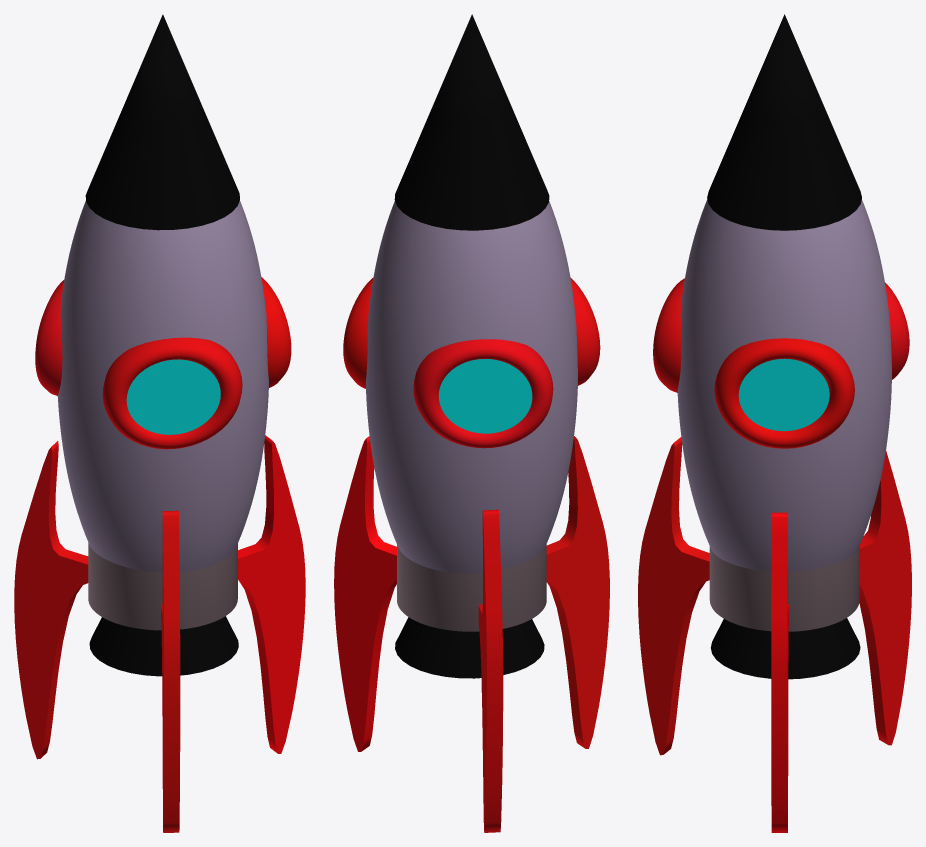
Rendered from rocket.glb.
3 views of the same model, side by side, from view 1: azimuth 30°, elevation 25°; view 2: azimuth 150°, elevation 25°; view 3: azimuth 270°, elevation 25° (orthographic).
Parts seen in each view (by area): view 1: Sphere, Cone, BezierCircle, BezierCircle.002, Cylinder, Torus.003, BezierCircle.001, Cone.001, BezierCircle.003, Torus.001, Torus.002; view 2: Sphere, Cone, BezierCircle.002, BezierCircle.001, Cylinder, Torus.001, BezierCircle, Cone.001, BezierCircle.005, Torus.002, Torus.003; view 3: Sphere, Cone, BezierCircle.001, BezierCircle, Cylinder, Torus.002, Cone.001, BezierCircle.002, BezierCircle.004, Torus.003, Torus.001.
Boxes of the visible parts, bbox=[...] form: Sphere: bbox=[57, 200, 268, 572]; Cone: bbox=[85, 14, 239, 230]; BezierCircle: bbox=[14, 441, 88, 759]; BezierCircle.002: bbox=[238, 435, 305, 753]; Cylinder: bbox=[88, 543, 237, 630]; Torus.003: bbox=[102, 337, 242, 449]; BezierCircle.001: bbox=[161, 510, 180, 832]; Cone.001: bbox=[89, 616, 238, 676]; BezierCircle.003: bbox=[126, 359, 220, 434]; Torus.001: bbox=[35, 280, 64, 395]; Torus.002: bbox=[261, 277, 291, 387]; Sphere: bbox=[366, 201, 577, 573]; Cone: bbox=[394, 14, 549, 230]; BezierCircle.002: bbox=[334, 436, 396, 751]; BezierCircle.001: bbox=[546, 436, 609, 748]; Cylinder: bbox=[397, 544, 546, 631]; Torus.001: bbox=[413, 339, 553, 448]; BezierCircle: bbox=[478, 509, 503, 832]; Cone.001: bbox=[395, 617, 544, 678]; BezierCircle.005: bbox=[438, 359, 532, 433]; Torus.002: bbox=[343, 278, 373, 388]; Torus.003: bbox=[570, 278, 600, 385]; Sphere: bbox=[677, 199, 891, 571]; Cone: bbox=[707, 14, 861, 230]; BezierCircle.001: bbox=[638, 437, 709, 755]; BezierCircle: bbox=[859, 450, 911, 745]; Cylinder: bbox=[709, 228, 859, 631]; Torus.002: bbox=[714, 338, 854, 448]; Cone.001: bbox=[710, 618, 860, 679]; BezierCircle.002: bbox=[771, 512, 788, 832]; BezierCircle.004: bbox=[738, 358, 829, 431]; Torus.003: bbox=[653, 278, 684, 392]; Torus.001: bbox=[885, 282, 909, 379].
Size of the model in its own units: 3.38 by 10.35 by 3.36.
